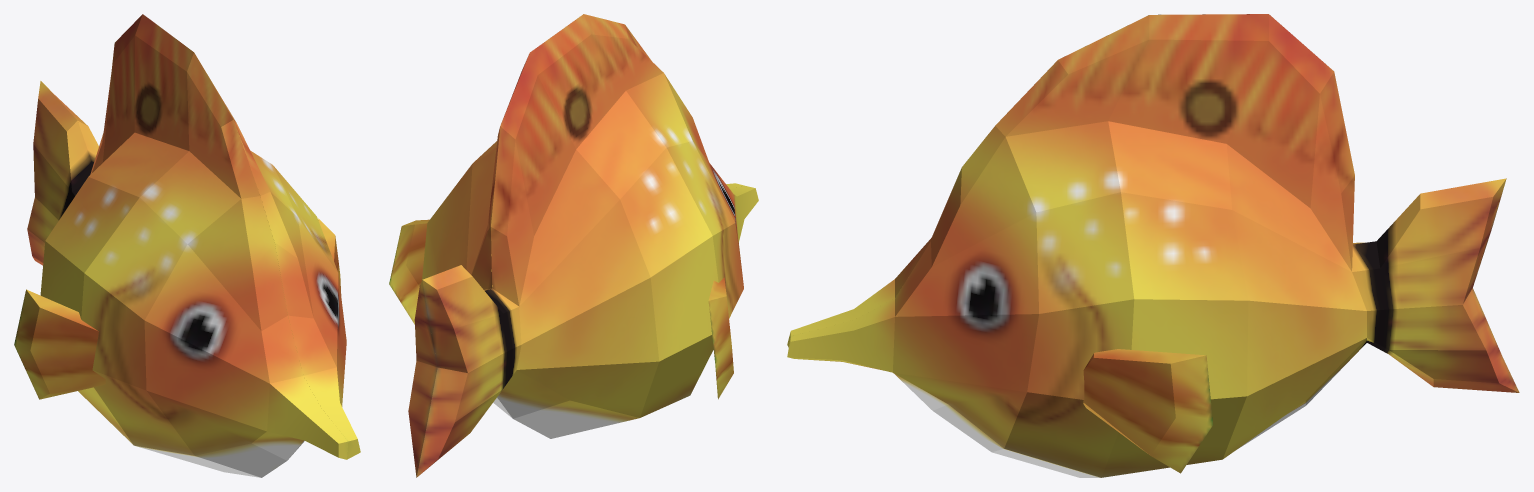
Rendered from fish.fbx.
The picture shows the model from 3 angles, left to right: view 1: azimuth 30°, elevation 25°; view 2: azimuth 150°, elevation 25°; view 3: azimuth 270°, elevation 25°; orthographic projection. The views are drawn at different scales.
Visible parts, largest first — view 1: polySurface4288; view 2: polySurface4288; view 3: polySurface4288.
Part boxes in pixels (box(x1,y1,x2,y2)): polySurface4288: box(14, 14, 360, 477); polySurface4288: box(389, 14, 758, 477); polySurface4288: box(787, 14, 1519, 477).
Bounding box in the file's own units: 0.0935 × 0.1148 × 0.1643.
